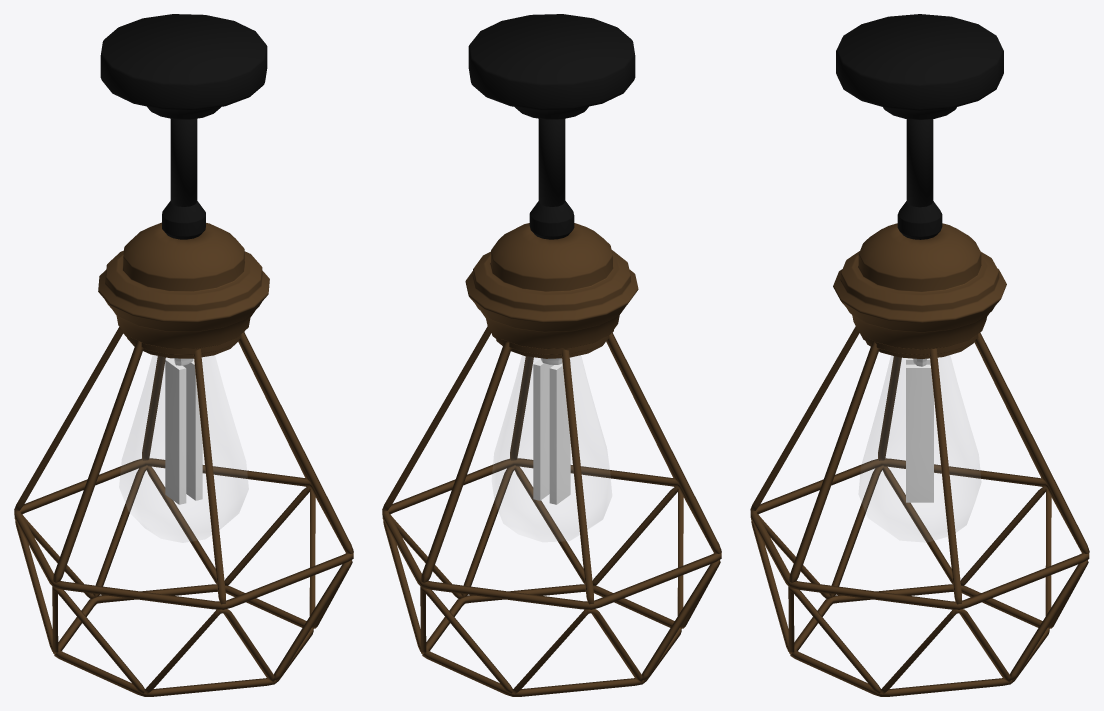
File: ceiling_bulb.fbx
3 renders of one model, left to right at view 1: azimuth 30°, elevation 25°; view 2: azimuth 150°, elevation 25°; view 3: azimuth 270°, elevation 25°, orthographic.
Visible parts, largest first — view 1: Circle.014, Circle.003, Cylinder.060, Cube.097, light_plane2, NurbsPath.001, light_plane1, Circle.008; view 2: Circle.014, Circle.003, Cylinder.060, Cube.097, light_plane2, NurbsPath.001, light_plane1, Circle.008; view 3: Circle.014, Circle.003, Cylinder.060, Cube.097, light_plane1, NurbsPath.001, Circle.008.
Boxes of the visible parts, x1,y1,x2,y2 form: Circle.014: [14, 327, 353, 696]; Circle.003: [98, 222, 269, 358]; Cylinder.060: [100, 14, 267, 119]; Cube.097: [119, 355, 248, 542]; light_plane2: [165, 358, 186, 504]; NurbsPath.001: [170, 118, 197, 206]; light_plane1: [183, 359, 202, 500]; Circle.008: [162, 201, 205, 239]; Circle.014: [382, 326, 721, 696]; Circle.003: [465, 223, 638, 358]; Cylinder.060: [468, 14, 635, 119]; Cube.097: [492, 356, 611, 541]; light_plane2: [549, 359, 570, 504]; NurbsPath.001: [538, 118, 565, 206]; light_plane1: [533, 359, 553, 500]; Circle.008: [529, 201, 574, 239]; Circle.014: [750, 326, 1089, 696]; Circle.003: [833, 223, 1006, 358]; Cylinder.060: [836, 14, 1003, 119]; Cube.097: [859, 356, 980, 541]; light_plane1: [906, 364, 933, 502]; NurbsPath.001: [906, 119, 933, 207]; Circle.008: [897, 201, 942, 239].
Bounding box in the file's own units: 16.91 × 32.05 × 16.6.
